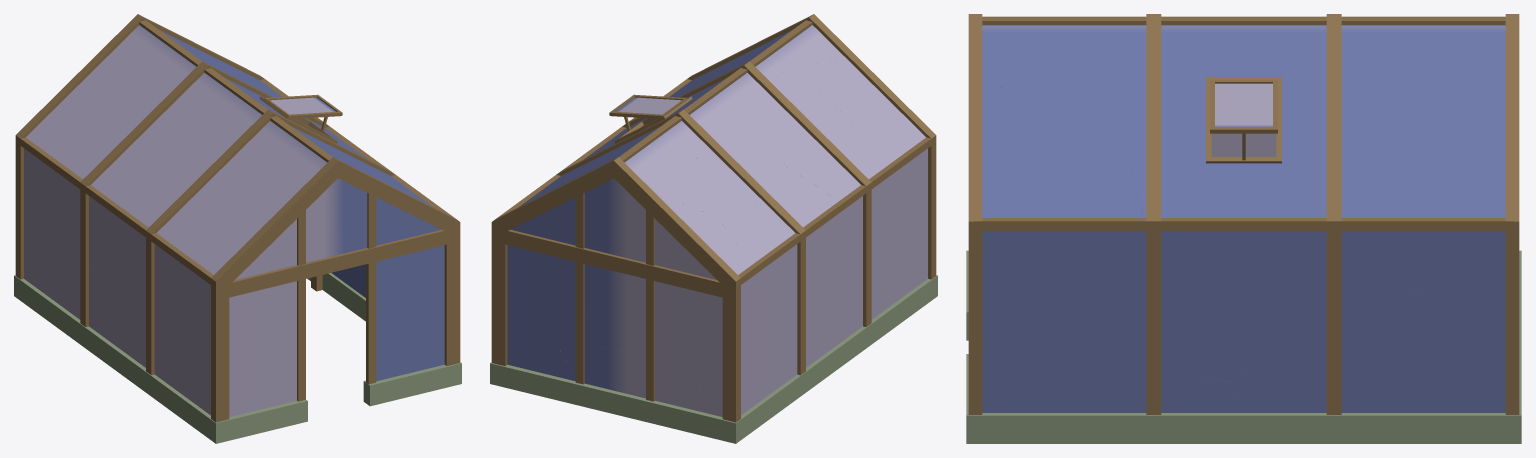
File: Greenhouse_01 Fracture.fbx
3 renders of one model, left to right at view 1: azimuth 30°, elevation 25°; view 2: azimuth 150°, elevation 25°; view 3: azimuth 270°, elevation 25°, orthographic. The views are drawn at different scales.
Visible parts, largest first — view 1: Greenhouse_01, Greenhouse_01_016_cell.001, Greenhouse_01_018_cell.001, Greenhouse_01_016_cell.003, Greenhouse_01_017_cell.003, Greenhouse_01_013_cell.001, Greenhouse_01_015_cell.003, Greenhouse_01_003_cell.003, Greenhouse_01_018_cell, Greenhouse_01_014_cell.004, Greenhouse_01_017_cell.004, Greenhouse_01_018_cell.004 (+37 smaller); view 2: Greenhouse_01, Greenhouse_01_016_cell.001, Greenhouse_01_017_cell.003, Greenhouse_01_018_cell.001, Greenhouse_01_016_cell.003, Greenhouse_01_013_cell.001, Greenhouse_01_007_cell.004, Greenhouse_01_015_cell.003, Greenhouse_01_014_cell, Greenhouse_01_018_cell, Greenhouse_01_014_cell.004, Greenhouse_01_007_cell.002 (+39 smaller); view 3: Greenhouse_01, Greenhouse_01_002_cell, Greenhouse_01_002_cell.002, Greenhouse_01_002_cell.003, Greenhouse_01_006_cell.001, Greenhouse_01_005_cell.001, Greenhouse_01_005_cell.004, Greenhouse_01_004_cell.002, Greenhouse_01_004_cell.004, Greenhouse_01_004_cell.001, Greenhouse_01_002_cell.004, Greenhouse_01_005_cell (+10 smaller).
Boxes of the visible parts, x1,y1,x2,y2 form: Greenhouse_01: [14, 14, 461, 443]; Greenhouse_01_016_cell.001: [177, 174, 293, 274]; Greenhouse_01_018_cell.001: [93, 39, 160, 139]; Greenhouse_01_016_cell.003: [156, 143, 258, 248]; Greenhouse_01_017_cell.003: [129, 146, 230, 227]; Greenhouse_01_013_cell.001: [24, 182, 80, 277]; Greenhouse_01_015_cell.003: [156, 308, 210, 382]; Greenhouse_01_003_cell.003: [229, 337, 296, 388]; Greenhouse_01_018_cell: [42, 111, 113, 178]; Greenhouse_01_014_cell.004: [90, 266, 145, 367]; Greenhouse_01_017_cell.004: [91, 145, 161, 212]; Greenhouse_01_018_cell.004: [26, 56, 108, 148]; Greenhouse_01: [490, 14, 937, 443]; Greenhouse_01_016_cell.001: [817, 60, 925, 165]; Greenhouse_01_017_cell.003: [771, 102, 860, 200]; Greenhouse_01_018_cell.001: [640, 156, 751, 215]; Greenhouse_01_016_cell.003: [779, 84, 887, 178]; Greenhouse_01_013_cell.001: [741, 245, 795, 410]; Greenhouse_01_007_cell.004: [507, 292, 575, 352]; Greenhouse_01_015_cell.003: [871, 170, 927, 295]; Greenhouse_01_014_cell: [816, 196, 862, 300]; Greenhouse_01_018_cell: [716, 204, 795, 264]; Greenhouse_01_014_cell.004: [806, 291, 862, 357]; Greenhouse_01_007_cell.002: [507, 245, 575, 318]; Greenhouse_01: [966, 14, 1521, 443]; Greenhouse_01_002_cell: [1254, 25, 1505, 217]; Greenhouse_01_002_cell.002: [1098, 25, 1326, 217]; Greenhouse_01_002_cell.003: [994, 37, 1142, 217]; Greenhouse_01_006_cell.001: [1341, 283, 1505, 404]; Greenhouse_01_005_cell.001: [1161, 288, 1313, 381]; Greenhouse_01_005_cell.004: [1229, 231, 1326, 341]; Greenhouse_01_004_cell.002: [1008, 299, 1116, 412]; Greenhouse_01_004_cell.004: [982, 285, 1065, 412]; Greenhouse_01_004_cell.001: [1053, 231, 1146, 313]; Greenhouse_01_002_cell.004: [982, 91, 1062, 217]; Greenhouse_01_005_cell: [1161, 231, 1239, 319].
Size of the model in its own units: 362 by 356 by 515.
